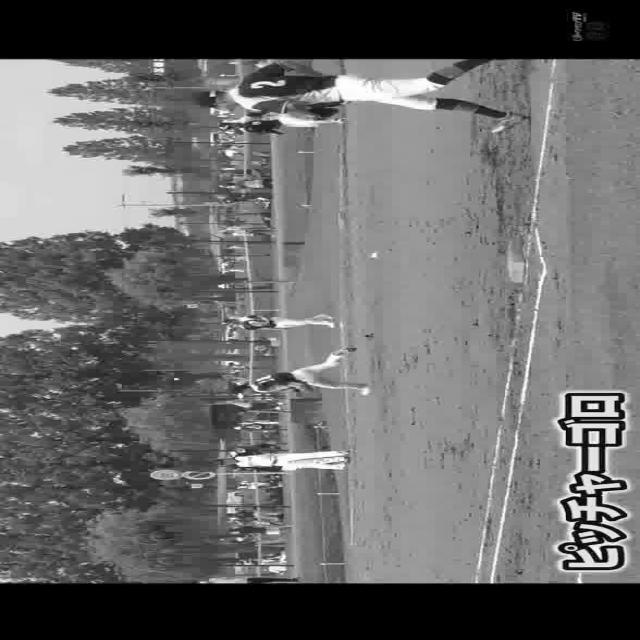base: (506, 235, 524, 282)
baseball_glove: (292, 379, 311, 392)
shoe: (334, 341, 364, 356), (362, 380, 377, 394)
